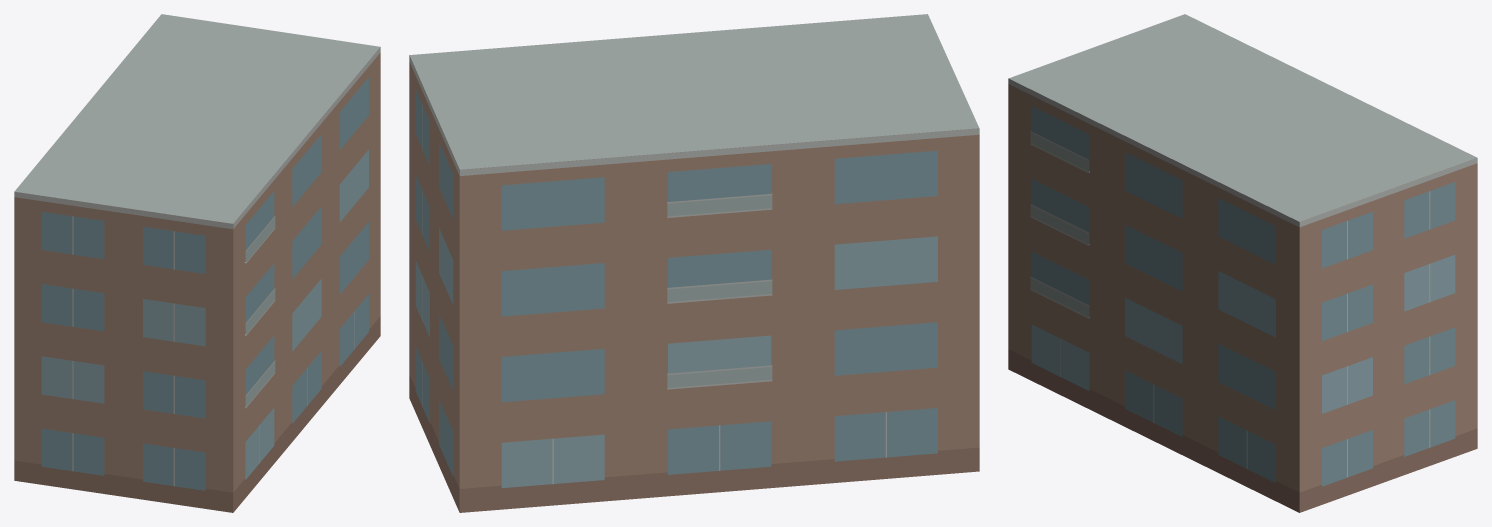
The model's file is survey-upis-32908780.glb.
3 renders of one model, left to right at view 1: azimuth 30°, elevation 25°; view 2: azimuth 150°, elevation 25°; view 3: azimuth 270°, elevation 25°, orthographic. The views are drawn at different scales.
Parts seen in each view (by area): view 1: survey-upis-32908780.tmp; view 2: survey-upis-32908780.tmp; view 3: survey-upis-32908780.tmp.
Boxes of the visible parts, bbox=[...] form: survey-upis-32908780.tmp: bbox=[14, 14, 380, 512]; survey-upis-32908780.tmp: bbox=[409, 14, 979, 512]; survey-upis-32908780.tmp: bbox=[1008, 14, 1477, 512].
Size of the model in its own units: 19.93 by 13 by 19.
